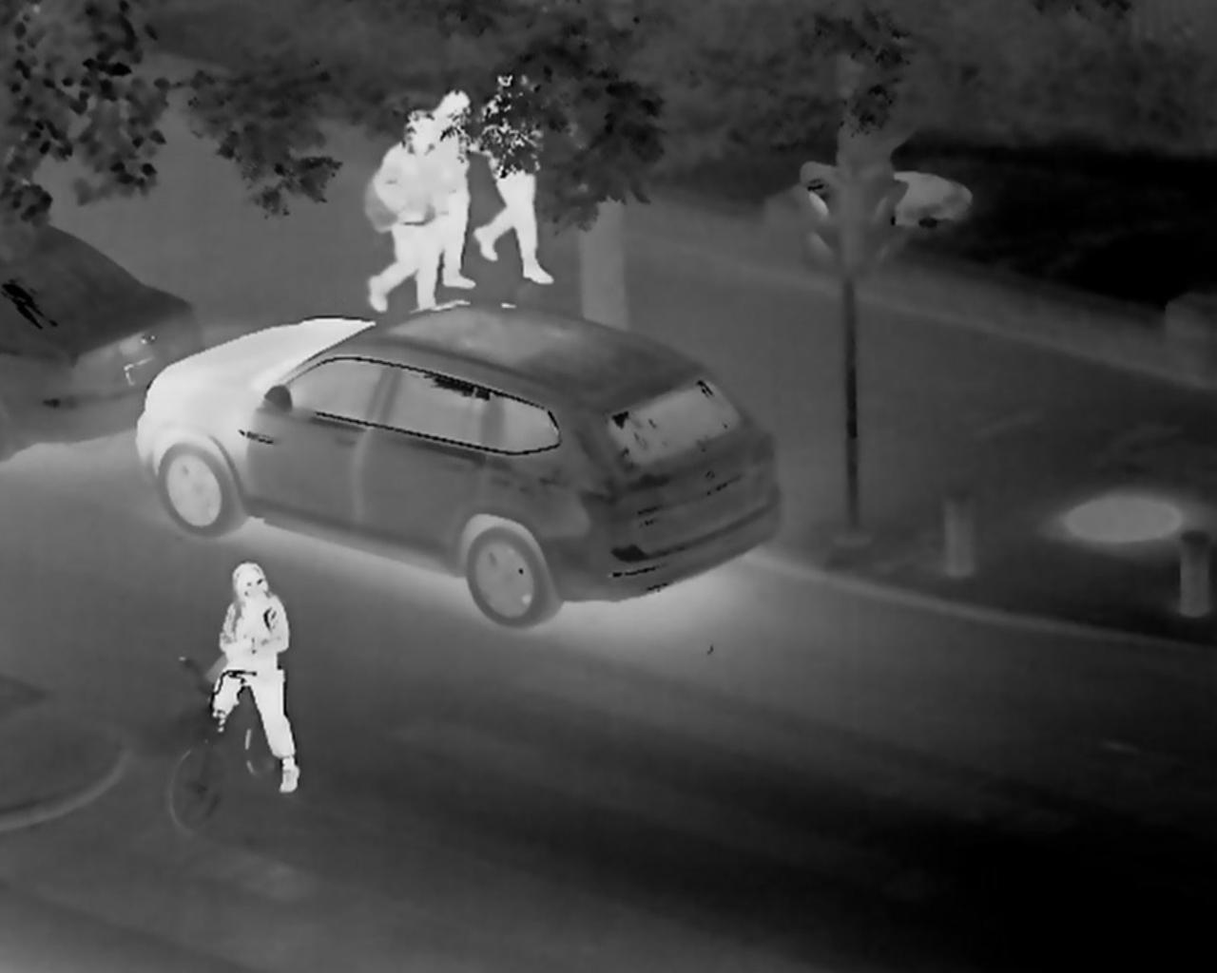person: (206, 558, 305, 794), (470, 60, 556, 291), (361, 105, 448, 312), (419, 80, 481, 290)
